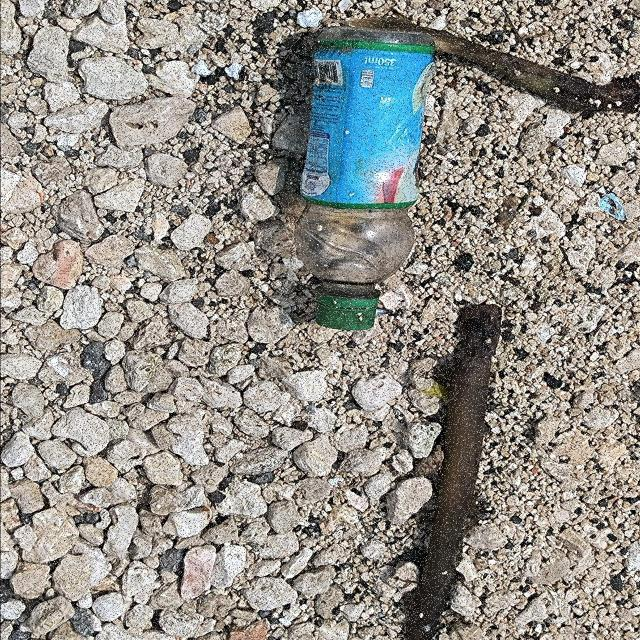plastic_waste: (294, 27, 436, 332)
